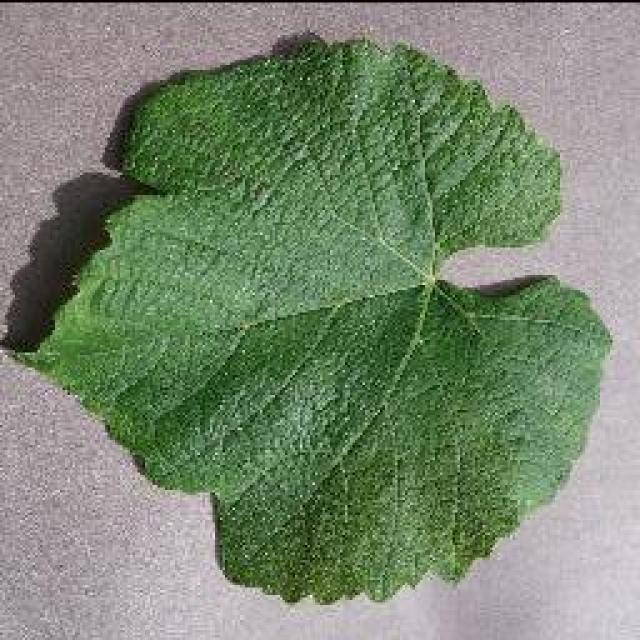Grape___healthy: (0, 35, 617, 610)
